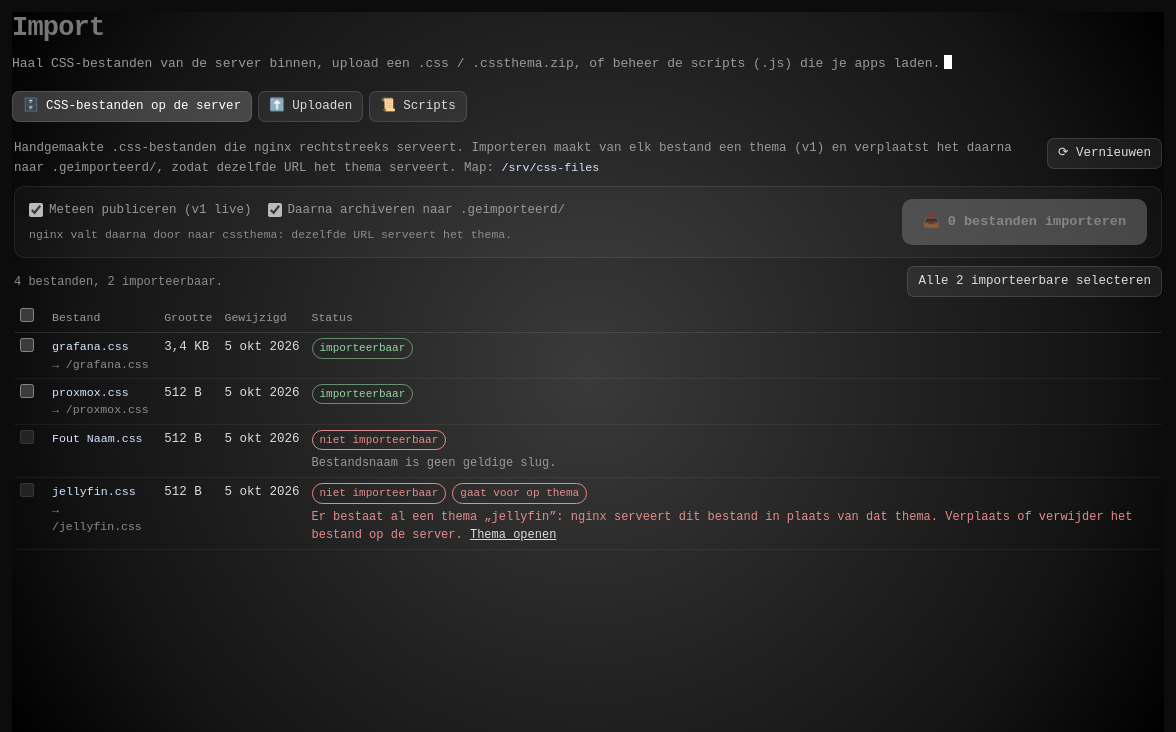
Import: CSS-bestanden op de server › toont een archiveerfout bij het thema
Expected: the table is shown, x1=14 y1=303 x2=1162 y2=550
Click the checkbox in the row of "3,4 KB" at (27, 345), box x1=20 y1=338 x2=34 y2=352
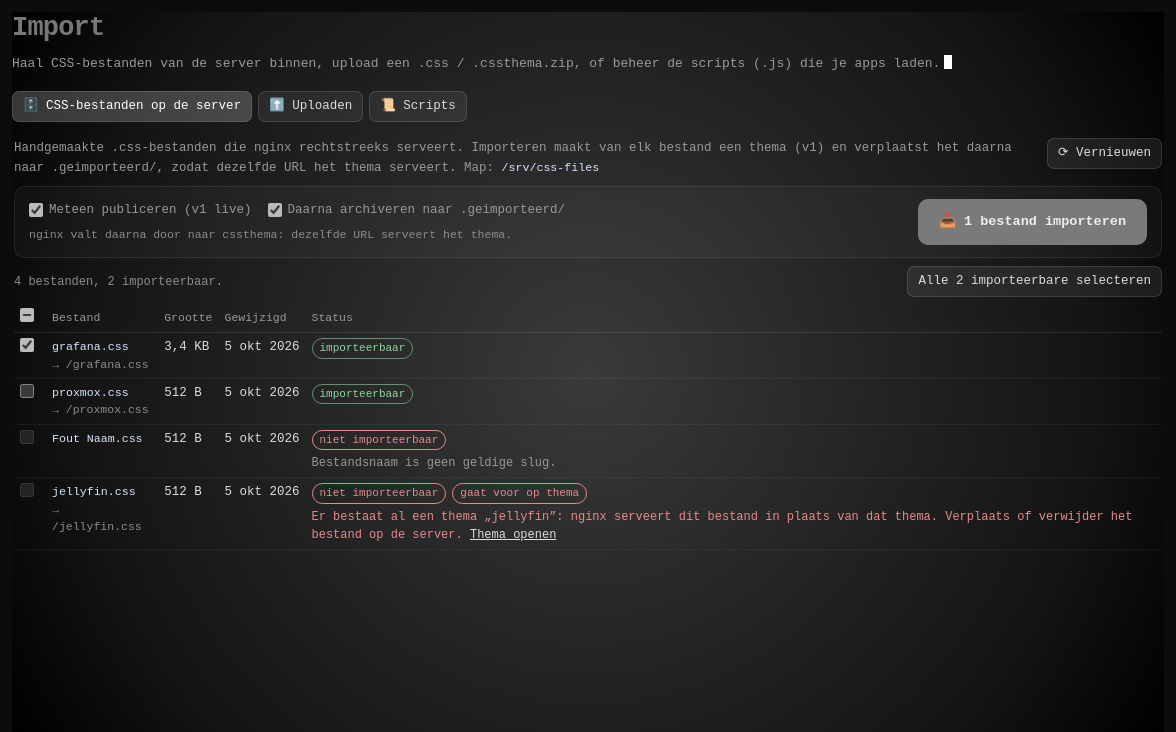
Click the button "📥 1 bestand importeren" at (1033, 222), box x1=918 y1=199 x2=1147 y2=245
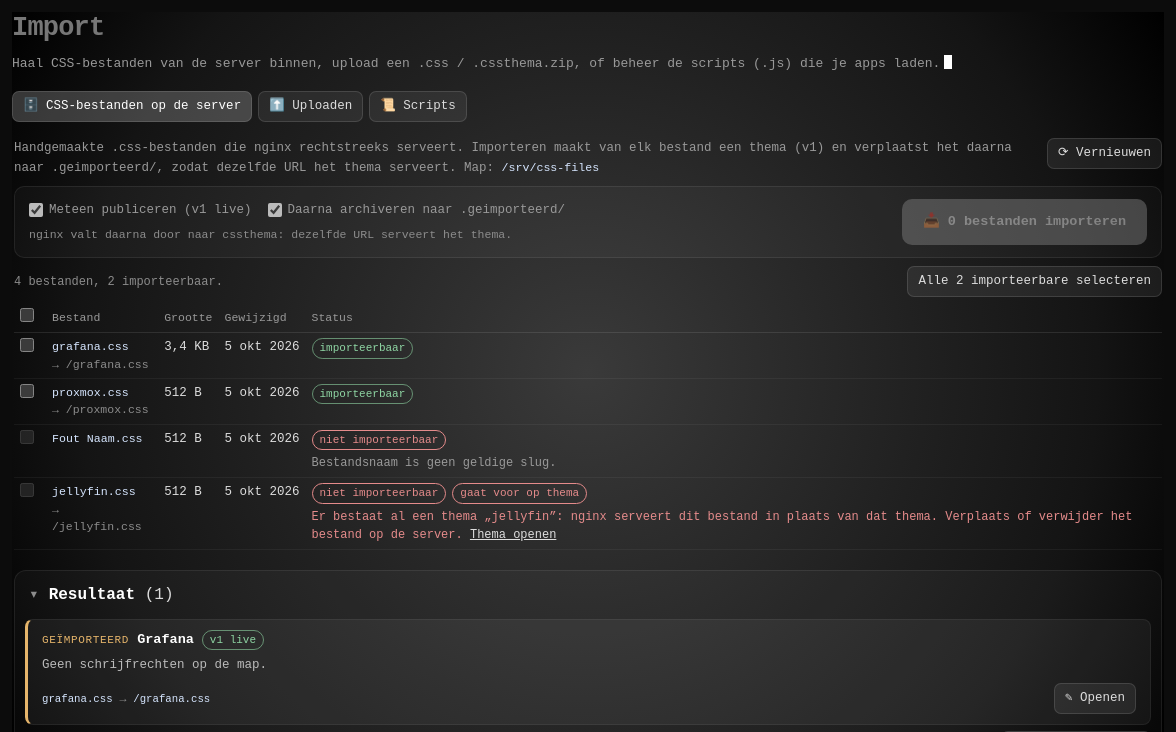
Result: the text "Geen schrijfrechten op de map." is shown at x1=42 y1=658 x2=267 y2=672
